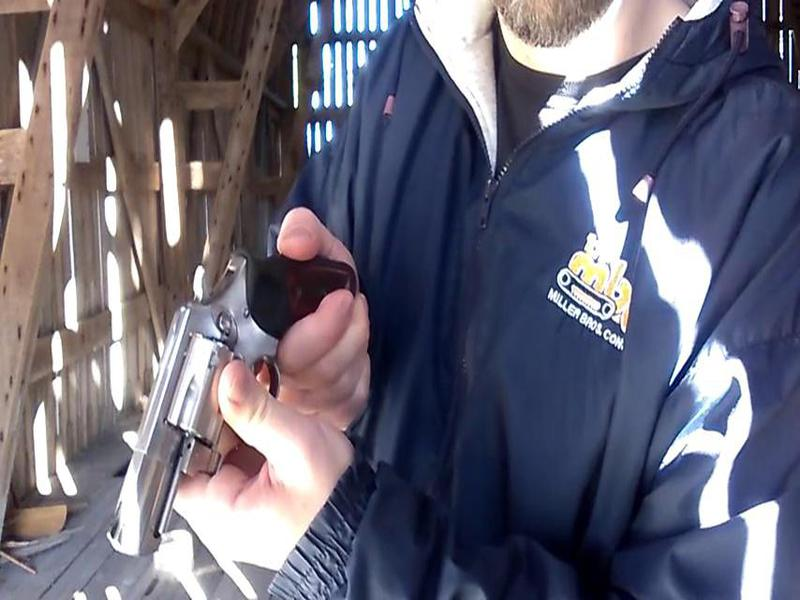Revolver: (97, 218, 377, 569)
